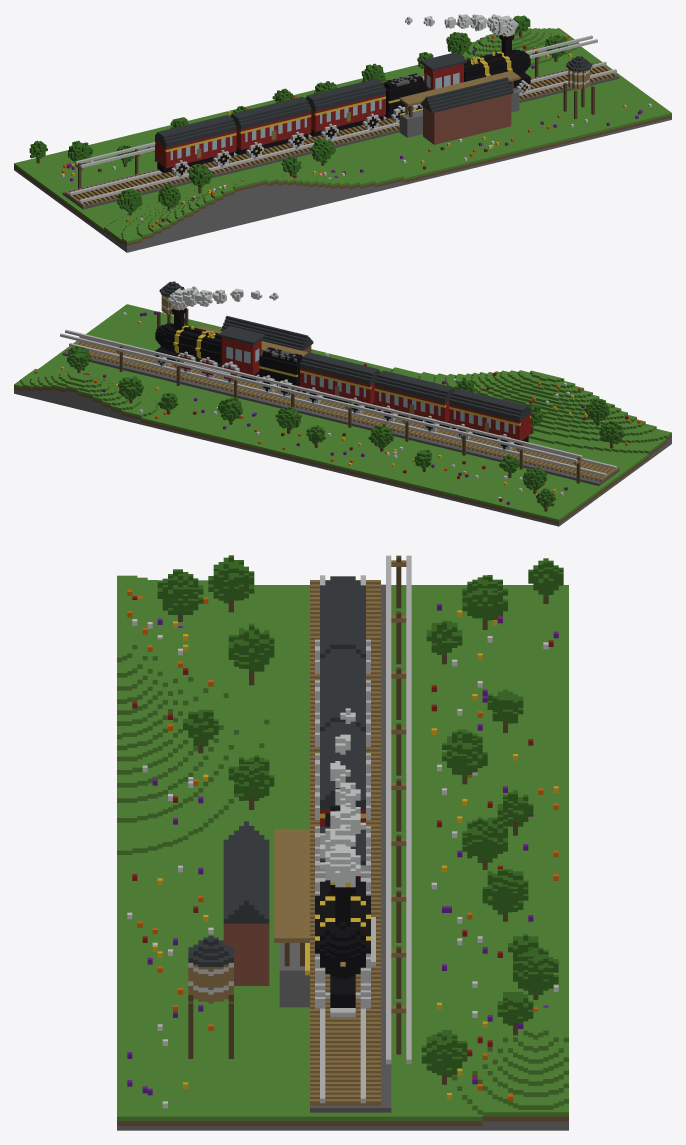
3 views of the same model, one above another, from view 1: azimuth 30°, elevation 25°; view 2: azimuth 150°, elevation 25°; view 3: azimuth 270°, elevation 25° (orthographic). The views are drawn at different scales.
Bounding box in the file's own units: 248 × 48 × 89.
